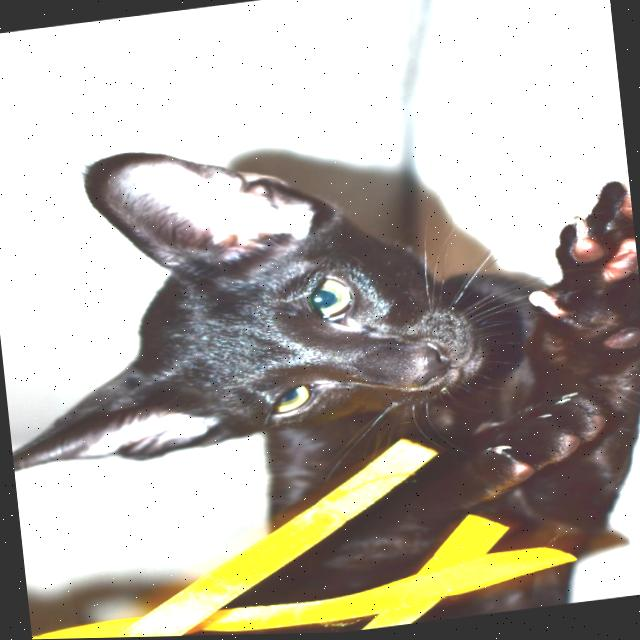Oriental: (0, 86, 640, 640)
